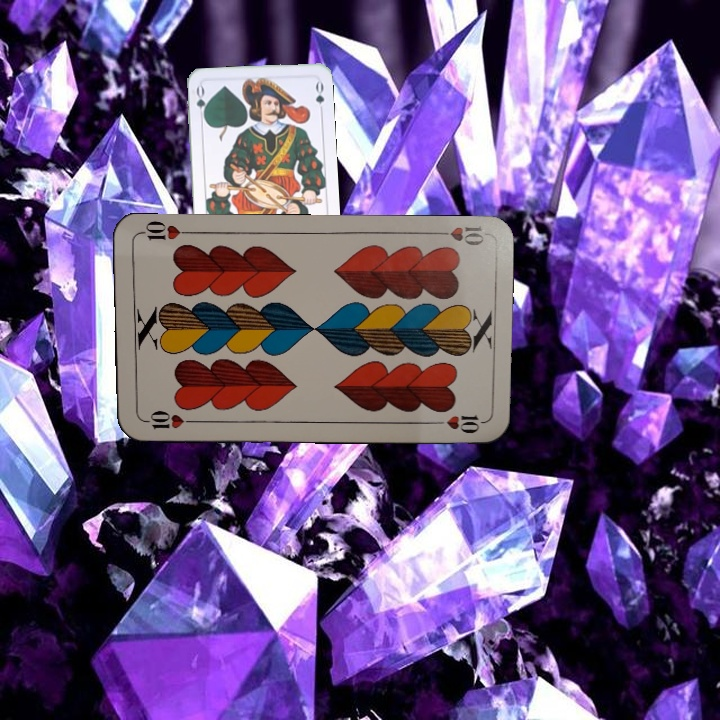GO: (192, 83, 209, 123)
H10: (428, 222, 487, 249), (137, 406, 196, 432)
